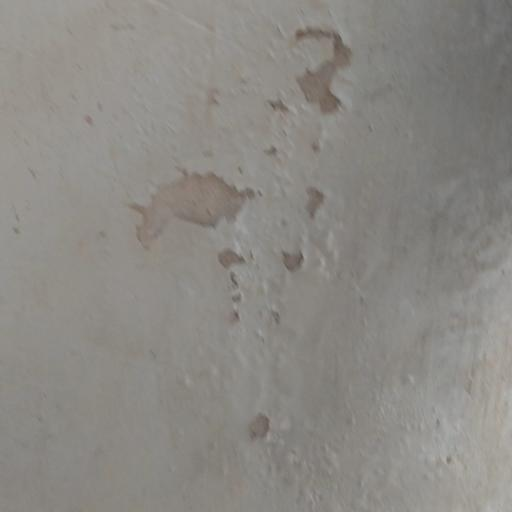peeling: (116, 12, 386, 307)
